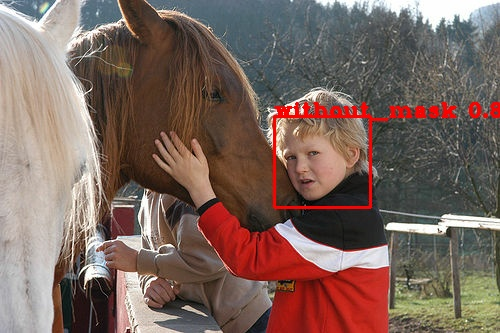without_mask: (276, 109, 362, 203)
